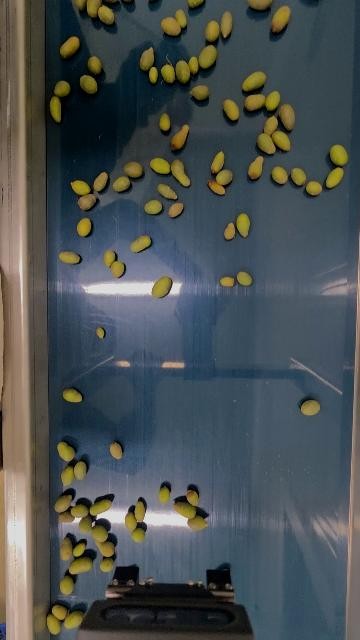Baby Potato: (170, 158, 192, 187), (271, 4, 292, 34), (241, 69, 267, 92), (328, 142, 349, 169), (278, 102, 297, 131), (198, 43, 218, 70), (151, 275, 173, 299), (59, 35, 81, 59), (256, 131, 277, 156), (171, 124, 190, 150), (67, 556, 93, 575), (273, 129, 293, 153), (243, 92, 267, 112), (222, 97, 241, 122), (247, 155, 265, 181), (48, 95, 64, 124), (160, 16, 182, 37), (325, 166, 345, 189), (63, 609, 84, 630), (300, 397, 322, 417), (90, 497, 112, 516), (57, 440, 76, 462), (173, 501, 197, 518), (210, 149, 226, 174), (54, 492, 74, 512), (175, 59, 191, 84), (78, 74, 98, 94), (130, 234, 151, 253), (97, 3, 115, 25), (220, 10, 234, 38), (265, 89, 282, 112), (236, 212, 251, 238), (139, 46, 155, 70), (204, 19, 220, 43), (124, 160, 144, 179), (77, 192, 97, 211), (157, 182, 178, 200), (150, 157, 171, 175), (60, 464, 75, 489), (60, 536, 74, 562), (271, 165, 289, 185), (87, 54, 103, 76), (93, 171, 109, 193), (187, 515, 209, 531), (58, 250, 81, 265), (53, 79, 71, 98), (245, 0, 276, 11), (190, 84, 210, 101), (290, 166, 307, 186), (95, 540, 115, 557), (263, 114, 279, 135), (62, 387, 83, 403), (70, 179, 91, 195), (46, 614, 62, 635), (144, 198, 163, 215), (69, 503, 89, 519), (60, 575, 75, 596), (161, 63, 176, 84), (112, 175, 130, 192), (92, 524, 109, 542), (208, 180, 227, 196), (77, 217, 92, 237), (73, 460, 87, 481), (168, 201, 185, 218), (306, 179, 323, 196), (110, 260, 126, 278), (216, 169, 234, 185), (86, 0, 102, 18), (175, 7, 188, 28), (236, 270, 253, 286), (52, 603, 68, 620), (77, 516, 92, 534), (223, 221, 236, 241), (99, 557, 115, 573), (103, 249, 117, 267), (186, 489, 200, 507), (158, 485, 171, 504), (134, 500, 145, 522), (159, 112, 171, 132), (110, 442, 123, 460), (124, 512, 137, 530), (73, 541, 86, 558), (188, 55, 199, 75), (57, 511, 75, 523), (131, 527, 145, 542), (148, 65, 159, 84), (69, 0, 89, 10), (220, 275, 235, 288), (186, 0, 206, 8), (95, 326, 105, 338), (101, 0, 118, 4), (120, 0, 134, 3)
